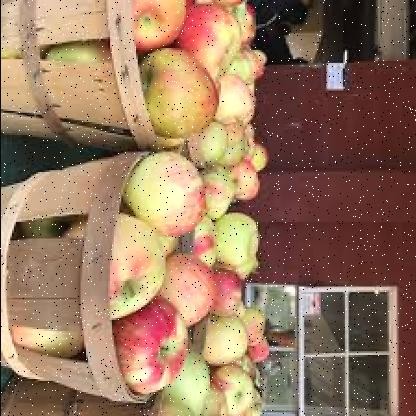apple: (107, 304, 185, 400), (148, 43, 214, 133), (107, 216, 165, 310), (137, 155, 207, 231), (178, 7, 240, 78), (124, 0, 188, 54), (209, 210, 262, 268), (164, 264, 214, 320), (202, 312, 248, 372), (216, 68, 252, 124), (209, 268, 246, 312), (216, 370, 255, 410), (246, 306, 272, 348)
